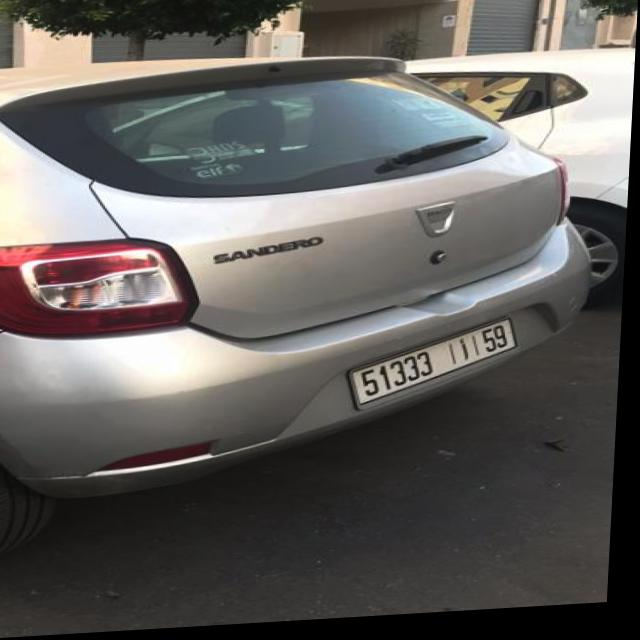License-Plate: (356, 326, 521, 409)
